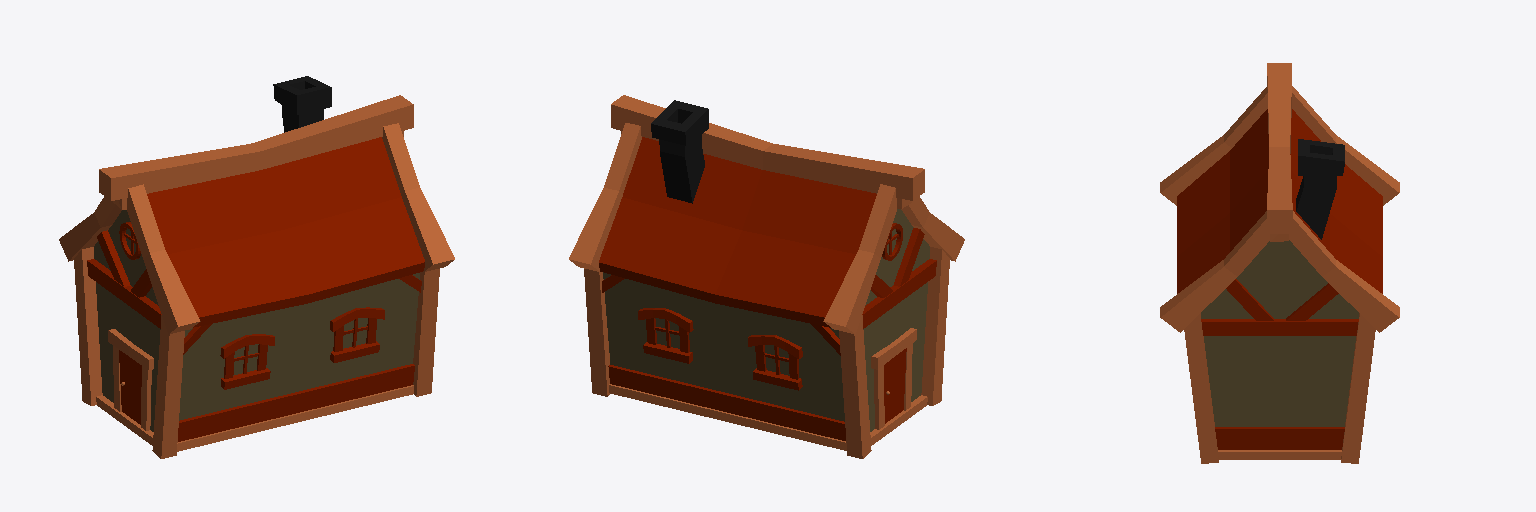
The picture shows the model from 3 angles: view 1: azimuth 30°, elevation 25°; view 2: azimuth 150°, elevation 25°; view 3: azimuth 270°, elevation 25°; orthographic projection.
Visible parts, largest first — view 1: Plane.001, Plane.003, Cube.013, Cube, Cube.007, Plane.011, Plane.006, Cube.002, Cube.019, Cube.021, Cube.003, Plane.010 (+8 smaller); view 2: Plane, Plane.002, Cube.013, Cube.002, Cube.008, Plane.006, Plane.012, Cube, Cube.019, Cube.020, Cube.003, Plane.010 (+8 smaller); view 3: Plane.007, Plane.001, Cube.008, Cube.007, Plane, Cube.013, Cube.019, Plane.013, Cube.009, Cube, Cube.002, Cube.012 (+2 smaller).
Boxes of the visible parts, <box> form: Plane.001: <box>147,137,424,327</box>; Plane.003: <box>179,273,419,420</box>; Cube.013: <box>99,95,413,200</box>; Cube: <box>127,184,200,458</box>; Cube.007: <box>382,123,454,396</box>; Plane.011: <box>178,364,414,441</box>; Plane.006: <box>94,210,160,431</box>; Cube.002: <box>59,196,121,405</box>; Cube.019: <box>273,76,331,132</box>; Cube.021: <box>177,385,413,451</box>; Cube.003: <box>87,259,161,328</box>; Plane.010: <box>119,350,141,424</box>; Plane: <box>599,137,876,327</box>; Plane.002: <box>603,272,844,421</box>; Cube.013: <box>611,95,924,200</box>; Cube.002: <box>823,184,896,458</box>; Cube.008: <box>569,123,641,396</box>; Plane.006: <box>863,209,929,431</box>; Plane.012: <box>608,365,845,440</box>; Cube: <box>901,196,964,405</box>; Cube.019: <box>651,100,708,203</box>; Cube.020: <box>609,384,846,450</box>; Cube.003: <box>862,259,936,328</box>; Plane.010: <box>884,348,906,423</box>; Plane.007: <box>1201,240,1358,426</box>; Plane.001: <box>1177,109,1268,293</box>; Cube.008: <box>1289,211,1399,463</box>; Cube.007: <box>1160,211,1269,463</box>; Plane: <box>1290,109,1382,293</box>; Cube.013: <box>1267,63,1292,233</box>; Cube.019: <box>1296,139,1344,239</box>; Plane.013: <box>1215,427,1344,449</box>; Cube.009: <box>1201,319,1358,335</box>; Cube: <box>1160,87,1267,205</box>; Cube.002: <box>1292,86,1399,205</box>; Cube.012: <box>1218,450,1341,459</box>.
Size of the model in its own units: 23.68 by 21.24 by 16.24.
6 materials, 1 textured.